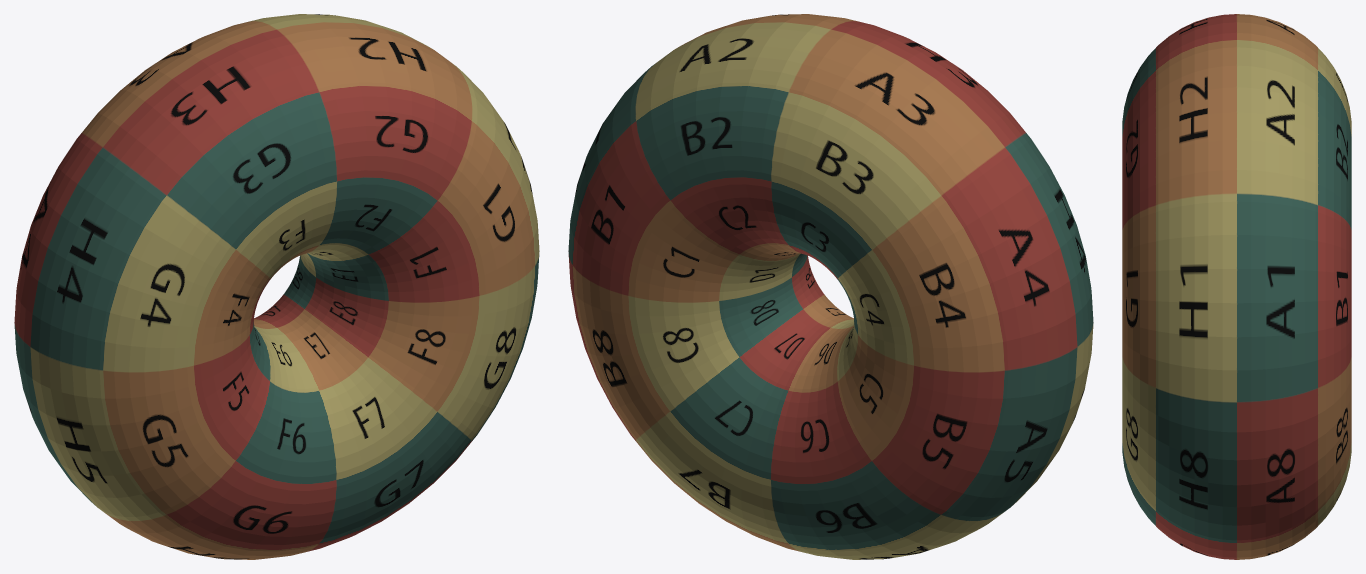
The model's file is texture_torus_R4_r27.glb.
3 renders of one model, left to right at view 1: azimuth 30°, elevation 25°; view 2: azimuth 150°, elevation 25°; view 3: azimuth 270°, elevation 25°, orthographic. The views are drawn at different scales.
Visible parts, largest first — view 1: world; view 2: world; view 3: world.
Part boxes in pixels (box(x1,y1,x2,y2)): world: box(14, 14, 539, 559); world: box(568, 14, 1093, 559); world: box(1122, 14, 1351, 559).
Bounding box in the file's own units: 21.87 × 21.82 × 9.18.
1 material, 1 textured.
